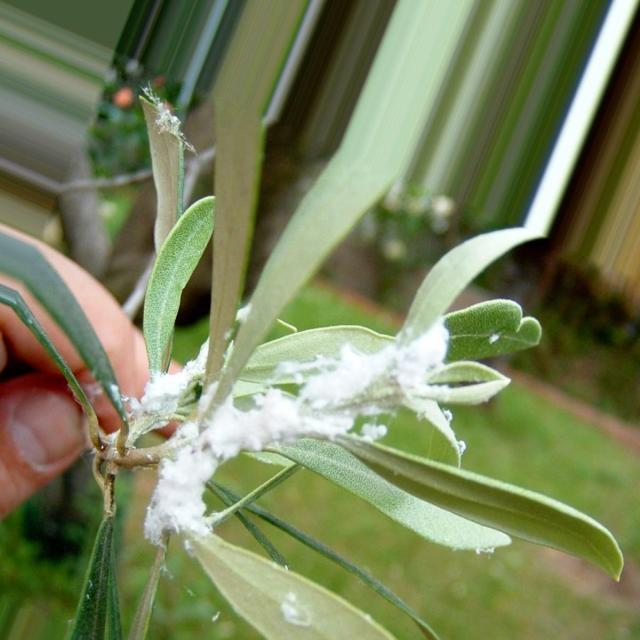Psyllid: (144, 394, 262, 546), (260, 346, 394, 444), (390, 322, 466, 467), (126, 342, 208, 457), (219, 302, 249, 373), (278, 589, 310, 628), (352, 422, 388, 442)
